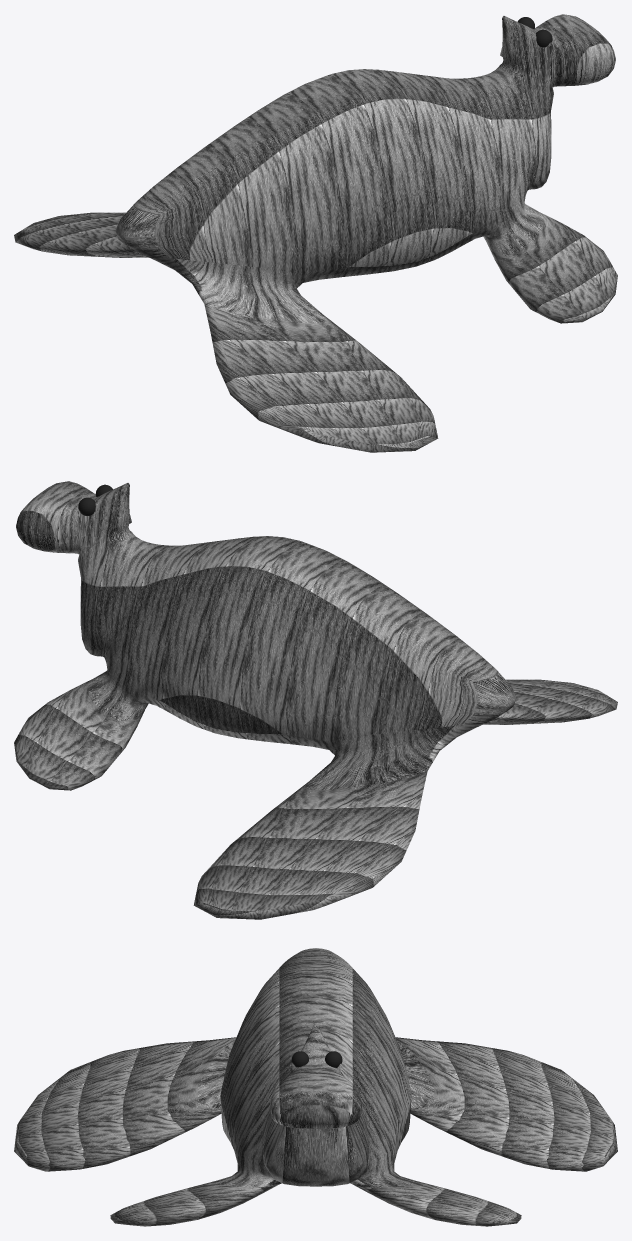
The model's file is SeaLion.glb.
The picture shows the model from 3 angles, top to bottom: view 1: azimuth 30°, elevation 25°; view 2: azimuth 150°, elevation 25°; view 3: azimuth 270°, elevation 25°; orthographic projection. The views are drawn at different scales.
Visible parts, largest first — view 1: Sphere; view 2: Sphere; view 3: Sphere.
Boxes of the visible parts, box(x1,y1,x2,y2) form: Sphere: box(14, 14, 617, 452); Sphere: box(14, 481, 617, 919); Sphere: box(14, 948, 617, 1226).
Size of the model in its own units: 12.23 by 6.34 by 14.06.
Materials: 2 (1 with a texture image).
